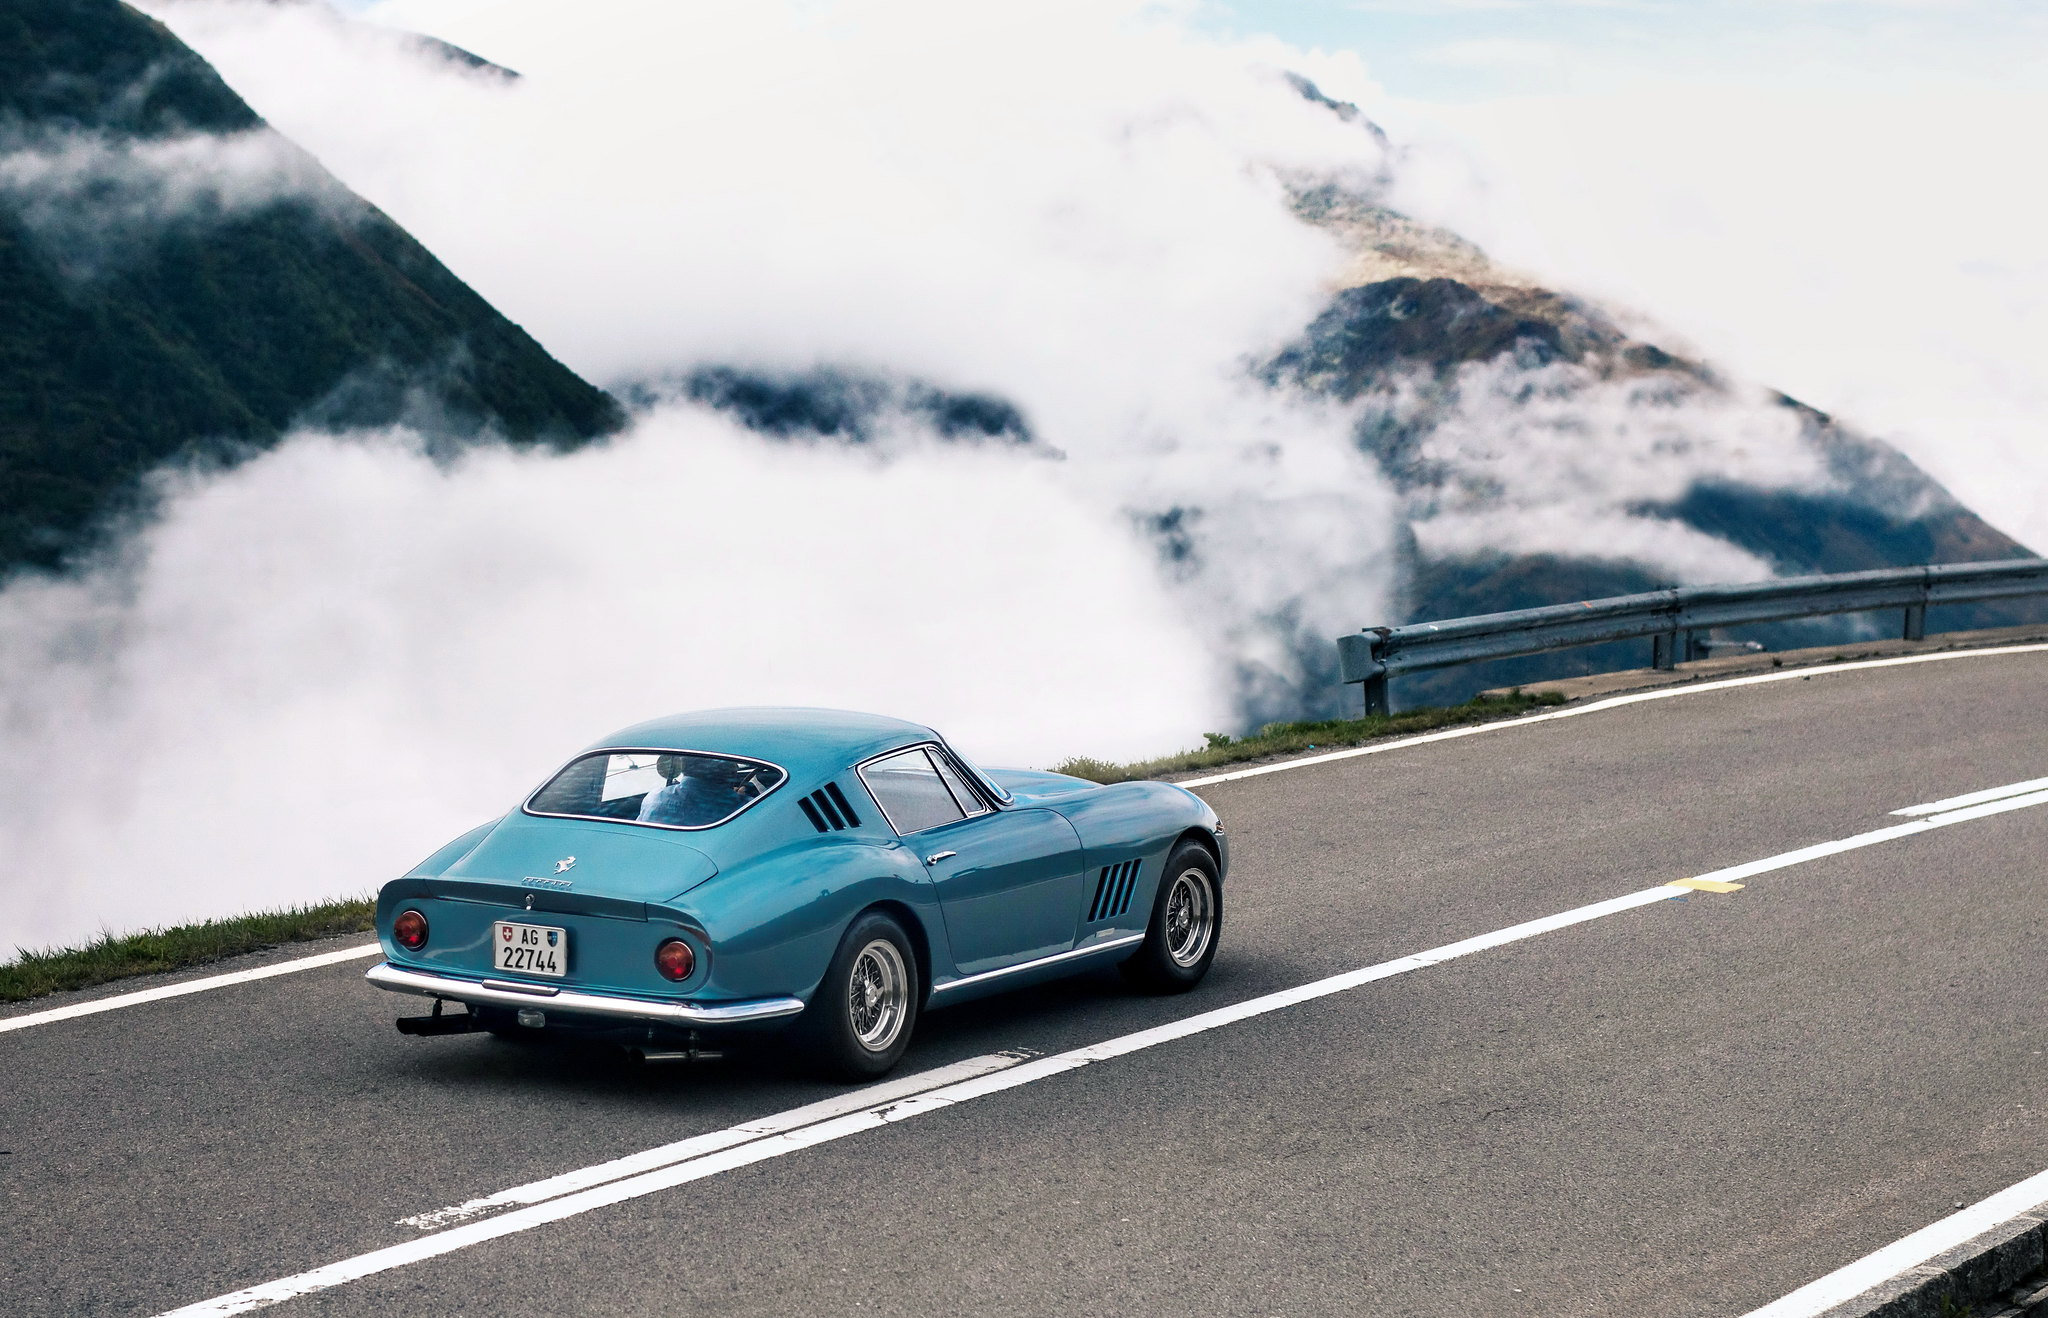car: (367, 663, 1226, 1087)
